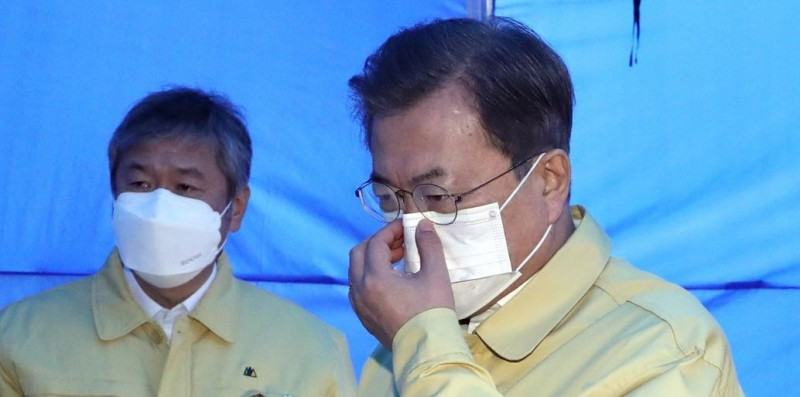Mask: (362, 89, 564, 321), (110, 136, 239, 289)
